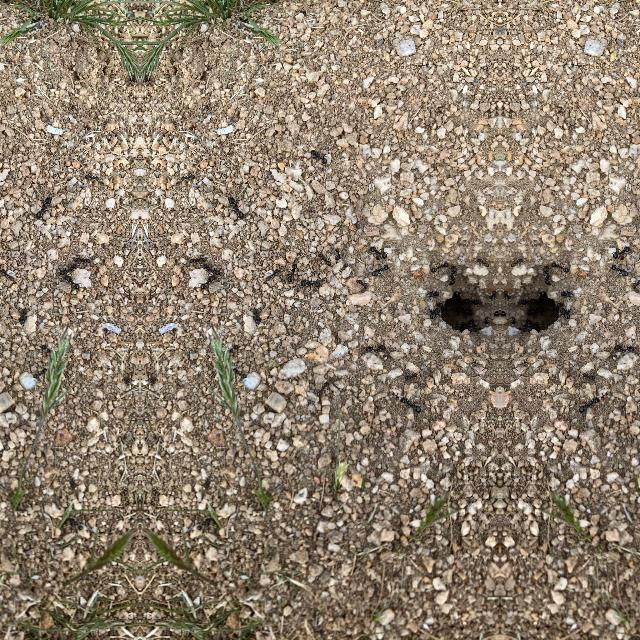Messor: (223, 192, 244, 218), (36, 192, 56, 218), (398, 395, 422, 415), (578, 395, 602, 415), (370, 262, 392, 280), (608, 262, 630, 280), (368, 242, 388, 260), (310, 148, 330, 166), (612, 242, 632, 260), (176, 169, 198, 185), (82, 169, 104, 185), (284, 264, 300, 284), (198, 276, 218, 292), (62, 276, 82, 292), (299, 274, 321, 288), (260, 266, 280, 280), (429, 260, 448, 274), (1, 266, 20, 280), (200, 263, 222, 275), (250, 305, 262, 327), (58, 263, 80, 275), (18, 305, 30, 327), (314, 380, 330, 396), (354, 276, 370, 292), (316, 253, 332, 269), (196, 515, 212, 531), (68, 515, 84, 531), (552, 260, 570, 274), (364, 342, 384, 354), (466, 316, 478, 336), (616, 342, 636, 354), (522, 316, 534, 336), (542, 266, 554, 284), (460, 296, 480, 306), (520, 296, 540, 306), (447, 266, 458, 284), (426, 287, 440, 301), (560, 287, 574, 301), (188, 254, 204, 266), (76, 254, 92, 266), (224, 342, 238, 354), (404, 369, 418, 381), (427, 306, 439, 320), (42, 342, 56, 354), (582, 369, 596, 381), (561, 306, 573, 320), (232, 367, 246, 378), (34, 367, 48, 378), (630, 276, 640, 291), (476, 258, 490, 268), (510, 258, 524, 268), (332, 248, 342, 260), (481, 314, 491, 326), (509, 314, 519, 326), (488, 288, 496, 298), (504, 288, 512, 298)
